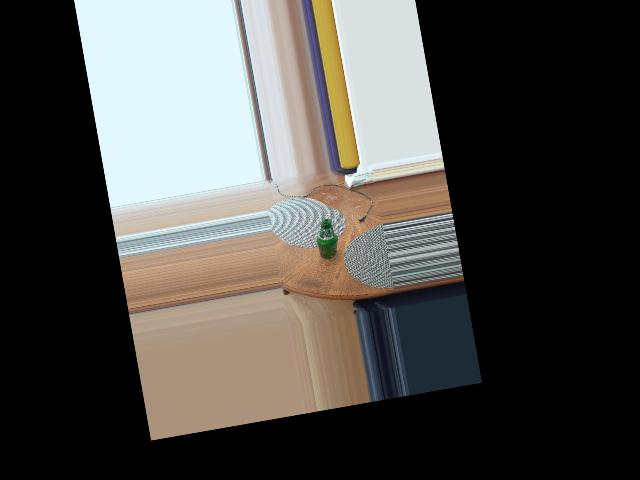beer: (312, 217, 340, 260)
